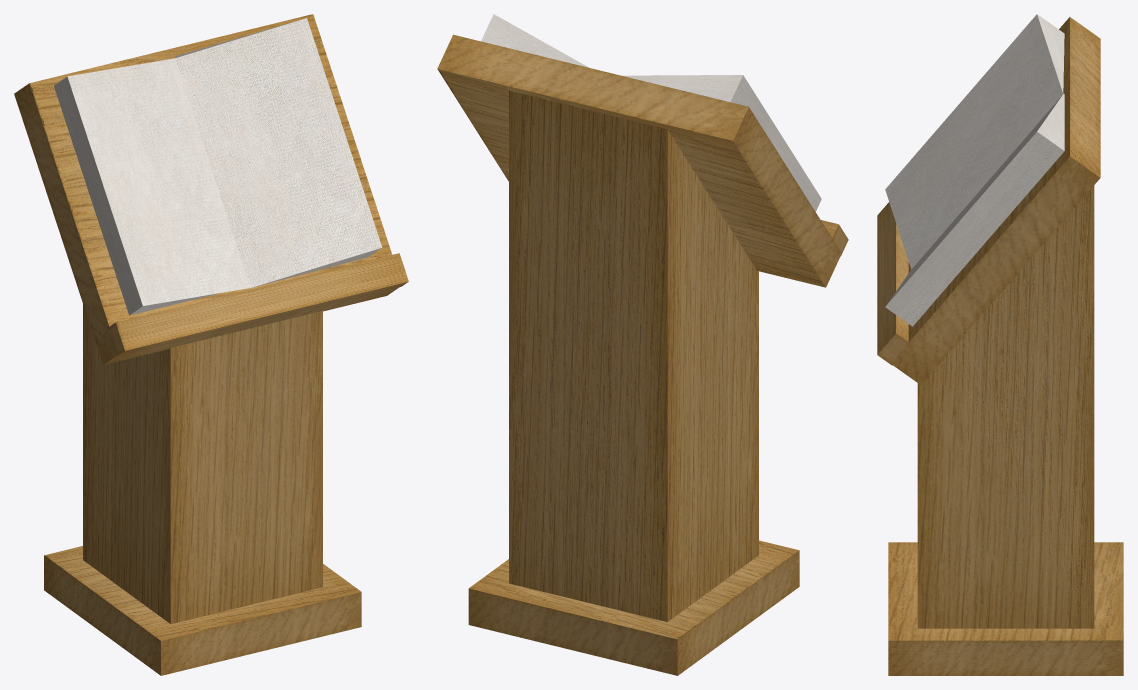
File: kookboek1.obj
3 views of the same model, side by side, from view 1: azimuth 30°, elevation 25°; view 2: azimuth 150°, elevation 25°; view 3: azimuth 270°, elevation 25° (orthographic). The views are drawn at different scales.
Parts seen in each view (by area): view 1: Cube, Cube.005, Cube.004, Cube.002, Cube.001, Cube.003; view 2: Cube, Cube.002, Cube.001, Cube.004, Cube.005; view 3: Cube, Cube.004, Cube.002, Cube.001, Cube.005, Cube.003.
Boxes of the visible parts, x1,y1,x2,y2 form: Cube: (83,304,322,624); Cube.005: (175,18,382,288); Cube.004: (54,58,250,315); Cube.002: (14,14,398,364); Cube.001: (44,546,361,675); Cube.003: (108,253,408,355); Cube: (509,90,758,621); Cube.002: (437,34,841,287); Cube.001: (468,540,799,675); Cube.004: (622,75,821,211); Cube.005: (481,14,589,67); Cube: (917,185,1094,628); Cube.004: (885,14,1064,269); Cube.002: (891,17,1100,384); Cube.001: (888,542,1123,675); Cube.005: (885,94,1064,326); Cube.003: (877,202,910,365).
Bounding box in the file's own units: 0.9335 × 1.73 × 0.6974.
